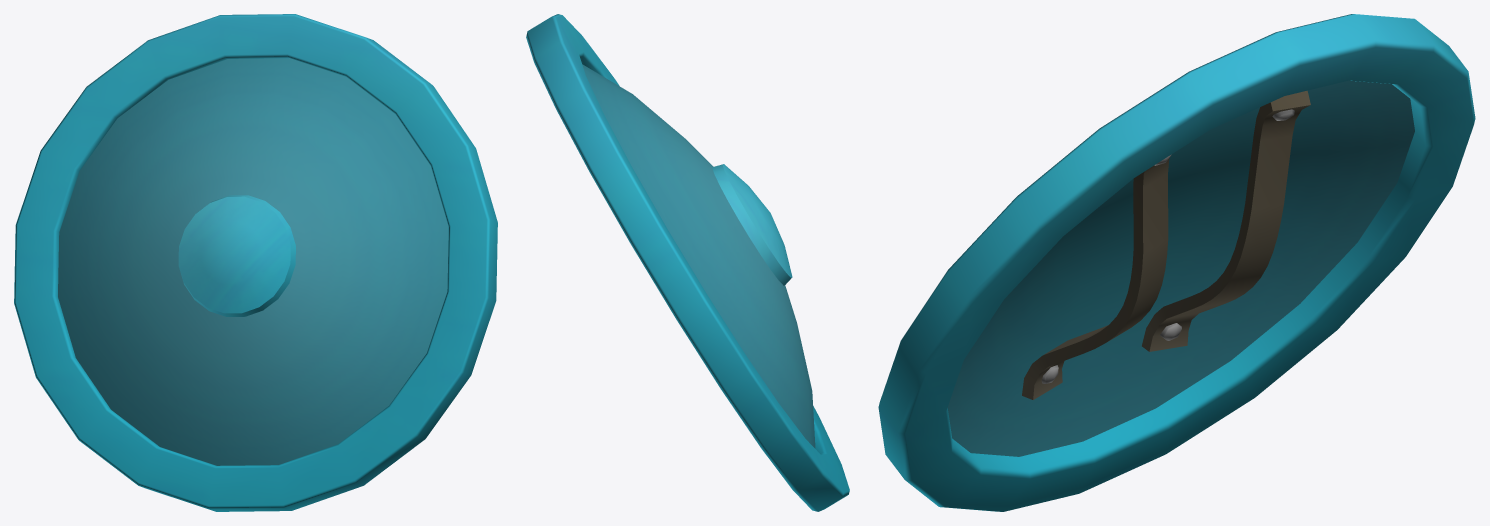
Rendered from OBJ_IceShield.fbx.
3 views of the same model, side by side, from view 1: azimuth 30°, elevation 25°; view 2: azimuth 150°, elevation 25°; view 3: azimuth 270°, elevation 25° (orthographic). The views are drawn at different scales.
Visible parts, largest first — view 1: OBJ_IceShield; view 2: OBJ_IceShield; view 3: OBJ_IceShield.
Boxes of the visible parts, x1,y1,x2,y2 form: OBJ_IceShield: [14, 14, 497, 511]; OBJ_IceShield: [526, 14, 849, 511]; OBJ_IceShield: [878, 14, 1475, 511].
Size of the model in its own units: 56.84 by 65.16 by 62.54.
